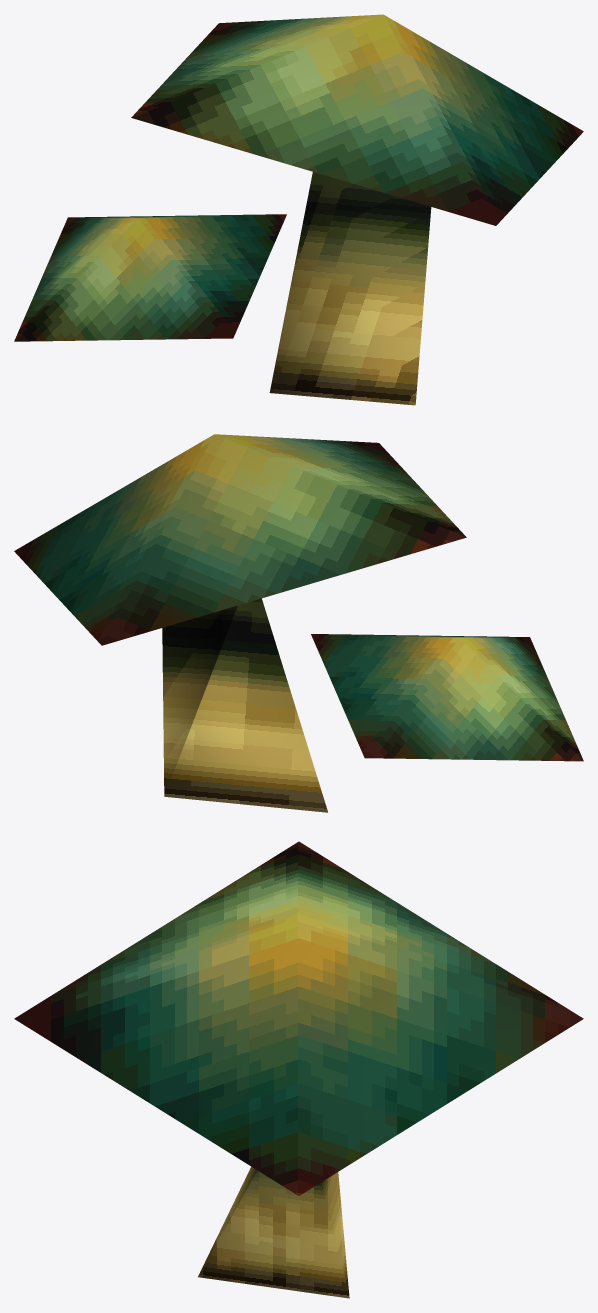
File: frst_fngi_mushroom_blue_group_l2.fbx
The picture shows the model from 3 angles, top to bottom: view 1: azimuth 30°, elevation 25°; view 2: azimuth 150°, elevation 25°; view 3: azimuth 270°, elevation 25°; orthographic projection. The views are drawn at different scales.
Visible parts, largest first — view 1: mesh_node; view 2: mesh_node; view 3: mesh_node.
Part boxes in pixels (bbox=[...]): mesh_node: bbox=[14, 14, 583, 405]; mesh_node: bbox=[14, 434, 583, 812]; mesh_node: bbox=[14, 841, 583, 1298].
Size of the model in its own units: 0.4725 by 0.2778 by 0.398.
1 material, 1 textured.
